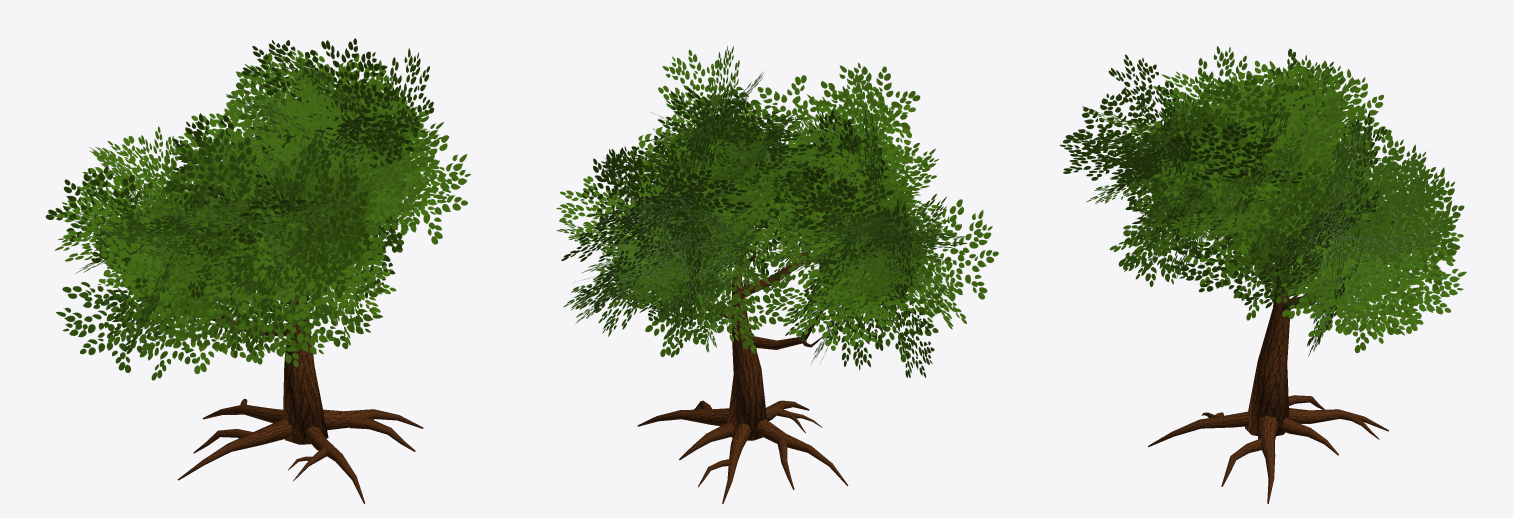
The model's file is tree.glb.
3 views of the same model, side by side, from view 1: azimuth 30°, elevation 25°; view 2: azimuth 150°, elevation 25°; view 3: azimuth 270°, elevation 25° (orthographic). The views are drawn at different scales.
Parts seen in each view (by area): view 1: leaves.001, tree1; view 2: leaves.001, tree1; view 3: leaves.001, tree1.
Boxes of the visible parts, x1,y1,x2,y2 form: leaves.001: [45, 38, 470, 380]; tree1: [177, 295, 423, 503]; leaves.001: [556, 45, 998, 377]; tree1: [637, 243, 848, 503]; leaves.001: [1060, 46, 1466, 356]; tree1: [1148, 231, 1388, 503].
Size of the model in its own units: 5.96 by 5.83 by 5.93.
Materials: 2 (2 with a texture image).
